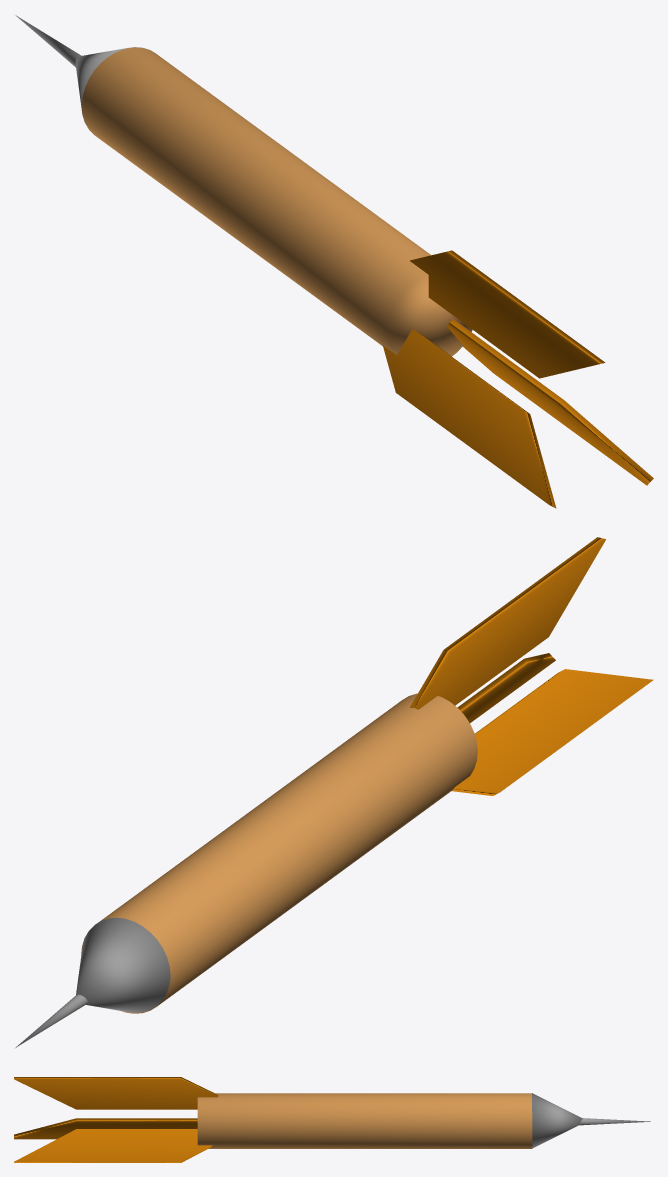
File: WarpZone_Obj_Dart.fbx
3 renders of one model, top to bottom at view 1: azimuth 30°, elevation 25°; view 2: azimuth 150°, elevation 25°; view 3: azimuth 270°, elevation 25°, orthographic. The views are drawn at different scales.
Parts seen in each view (by area): view 1: Dart_Body, Fin_3, Fin_1, Fin_2, Dart_Joint; view 2: Dart_Body, Fin_3, Fin_1, Dart_Joint, Fin_2; view 3: Dart_Body, Fin_2, Fin_1, Fin_3, Dart_Joint, Dart_Tip.
Part boxes in pixels (box(x1,y1,x2,y2)): Dart_Body: box(81, 47, 472, 356); Fin_3: box(382, 329, 556, 508); Fin_1: box(410, 250, 605, 378); Fin_2: box(446, 319, 653, 485); Dart_Joint: box(75, 47, 156, 121); Dart_Body: box(81, 693, 477, 1013); Fin_3: box(452, 669, 653, 795); Fin_1: box(410, 537, 605, 709); Dart_Joint: box(76, 917, 170, 1012); Fin_2: box(457, 653, 555, 722); Dart_Body: box(197, 1093, 532, 1148); Fin_2: box(14, 1129, 212, 1162); Fin_1: box(14, 1077, 218, 1109); Fin_3: box(14, 1118, 197, 1139); Dart_Joint: box(532, 1093, 582, 1148); Dart_Tip: box(579, 1118, 650, 1125).
Size of the model in its own units: 0.5902 by 0.7229 by 5.73.
